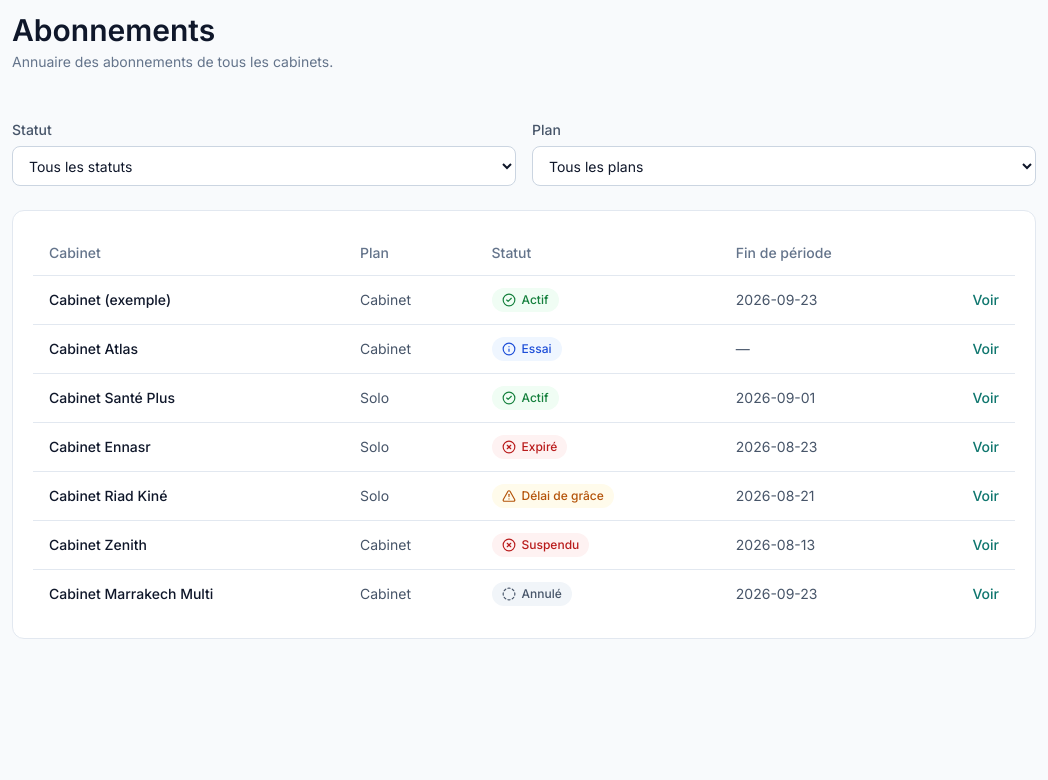
Test: SubscriptionsPage › filters by exact subscription status
Select "Essai" in the dropdown labelled "Statut": (264, 166) [12,146,516,186]
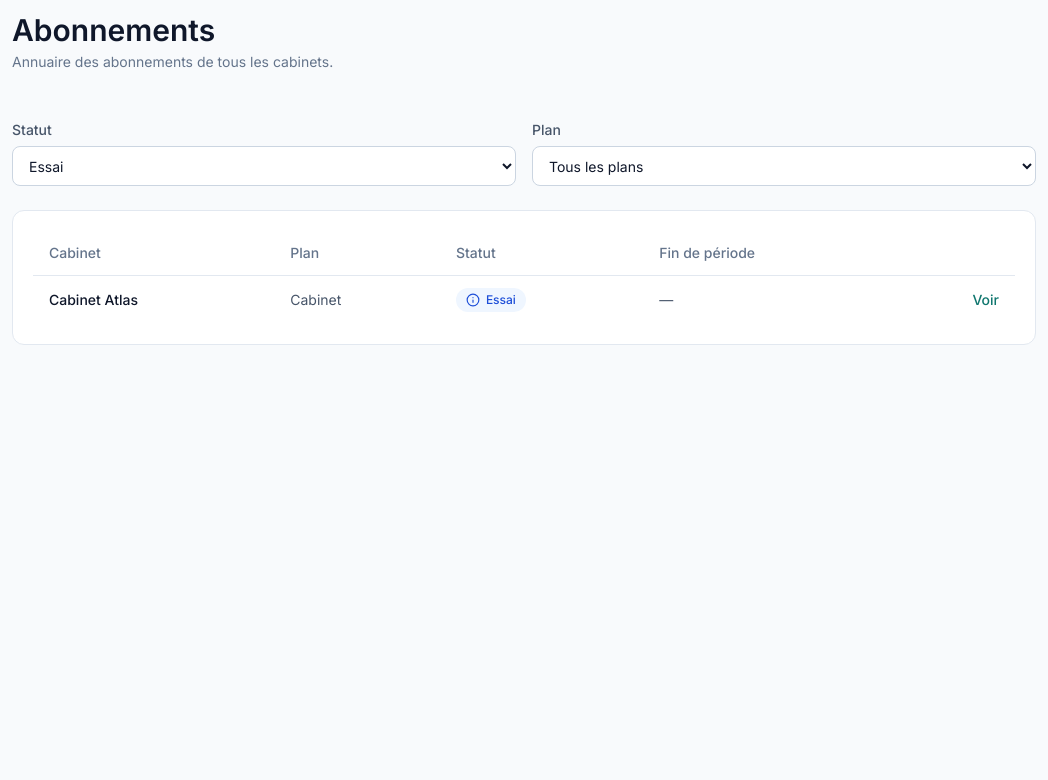
Expected: the text "Cabinet Atlas" is shown, [33,276,274,324]
Result: the number of rows is 2 at [33,231,1015,276]; [33,276,1015,324]
